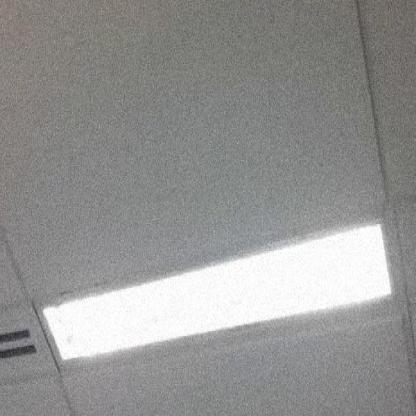light_on: (23, 204, 406, 376)
